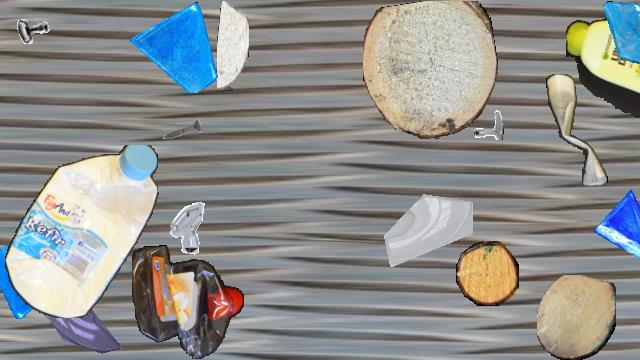glass: (380, 174, 472, 266), (130, 1, 222, 93), (37, 275, 121, 359), (0, 243, 66, 319), (594, 190, 640, 264), (603, 1, 640, 65)
metal: (156, 197, 214, 255), (462, 98, 504, 140), (161, 108, 203, 150), (13, 9, 53, 49)
plastic: (4, 145, 160, 317), (132, 245, 244, 359), (566, 18, 640, 120), (546, 74, 608, 186)
wood: (363, 1, 497, 139), (537, 275, 615, 359), (456, 241, 518, 305), (217, 1, 249, 91)
